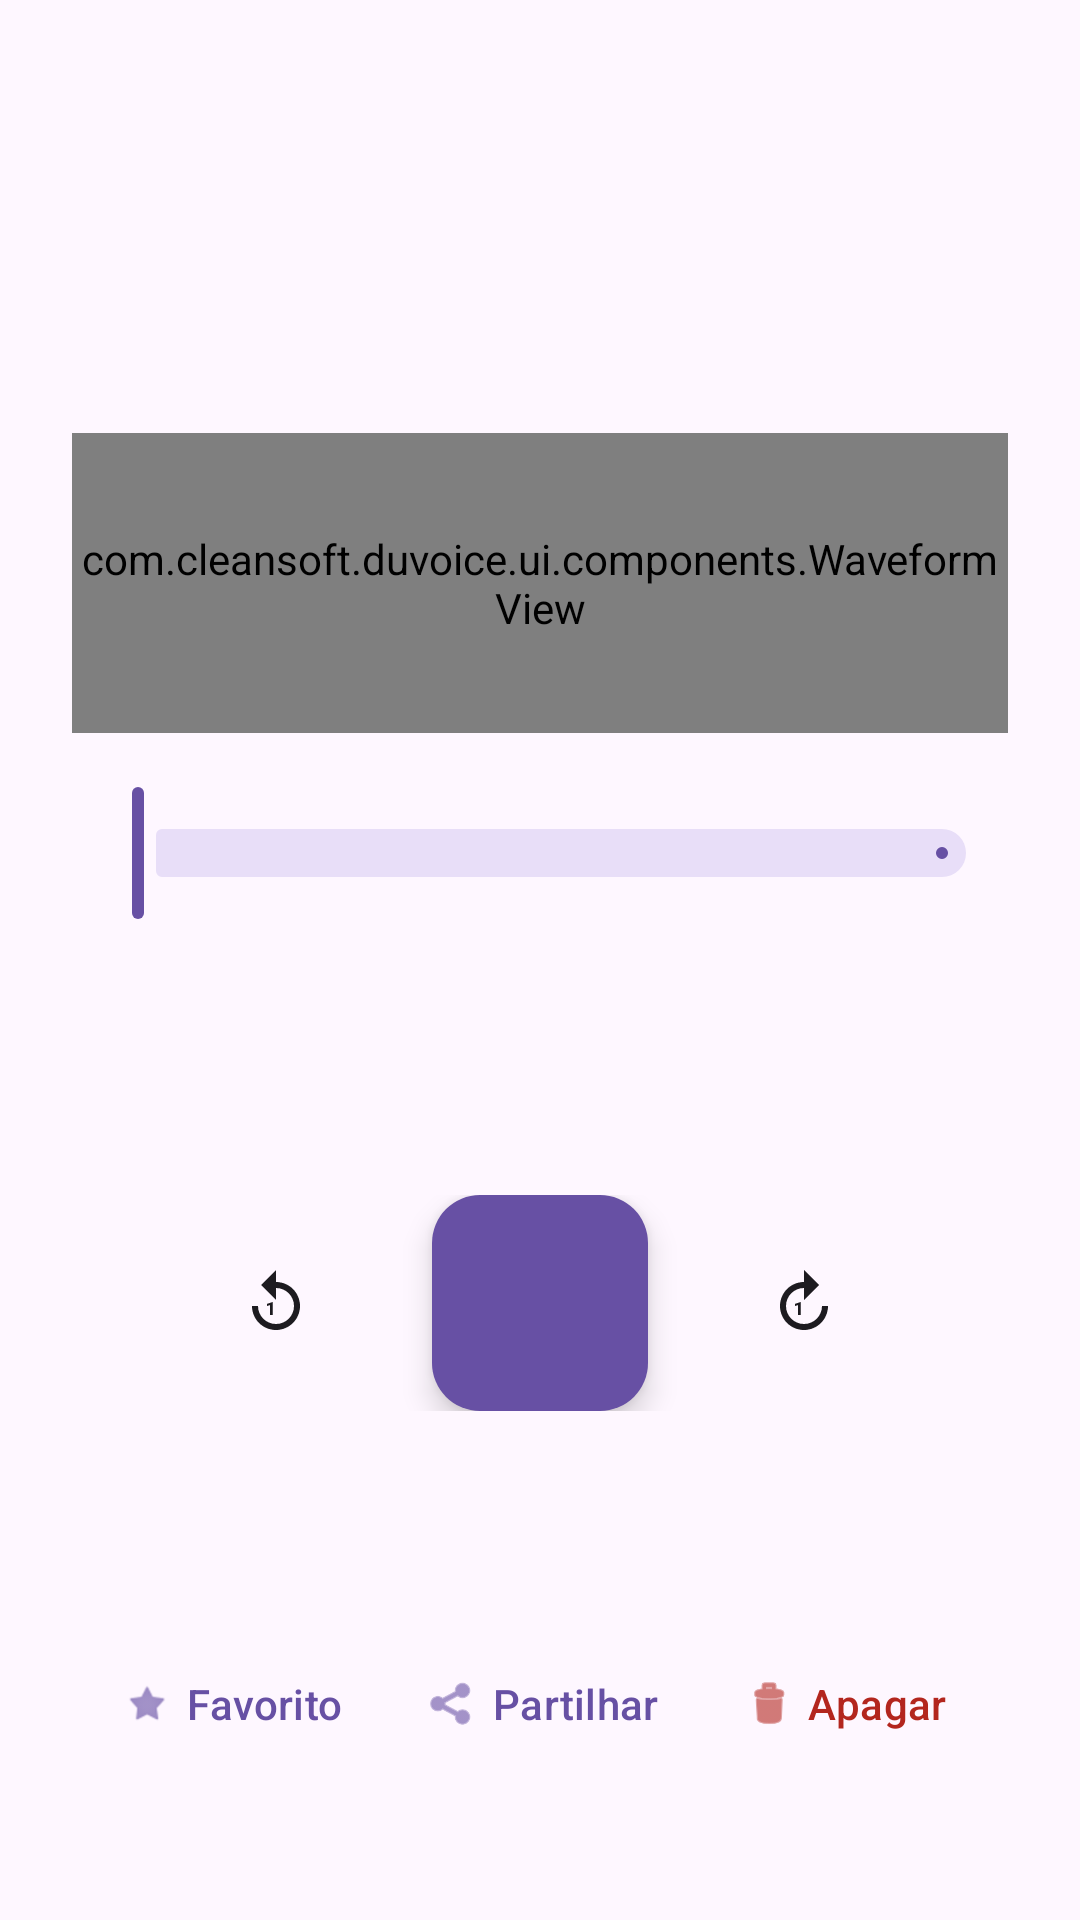

Icon bounding boxes for this 1080px x 1920px phone screenshot, format box(x1, y1, x2, y2):
Avançar 10s: box(780, 1270, 828, 1330)
Recuar 10s: box(252, 1270, 300, 1330)
